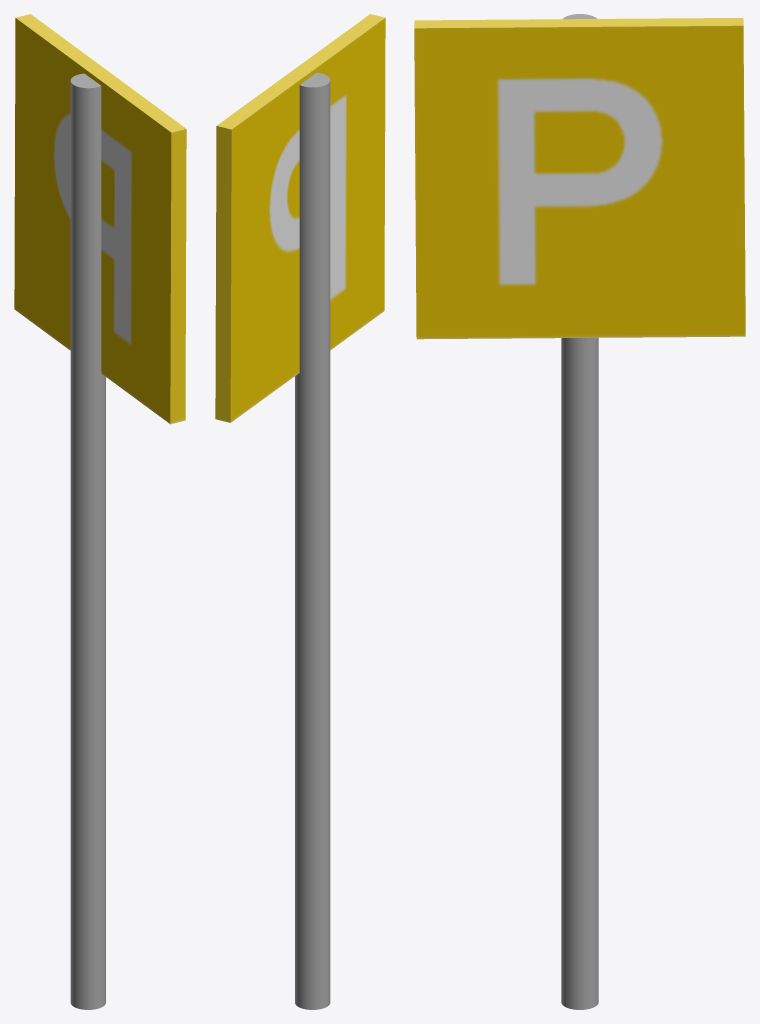
File: ParkingYellow.fbx
3 views of the same model, side by side, from view 1: azimuth 30°, elevation 25°; view 2: azimuth 150°, elevation 25°; view 3: azimuth 270°, elevation 25° (orthographic). The views are drawn at different scales.
Visible parts, largest first — view 1: Plane, Cylinder; view 2: Plane, Cylinder; view 3: Plane, Cylinder.
Part boxes in pixels (x1,y1,x2,y2): Plane: (14,14,186,424); Cylinder: (70,73,105,1009); Plane: (215,14,385,422); Cylinder: (295,72,330,1009); Plane: (414,18,745,339); Cylinder: (561,14,598,1009).
Bounding box in the file's own units: 23.43 × 583 × 178.
2 materials, 1 textured.
